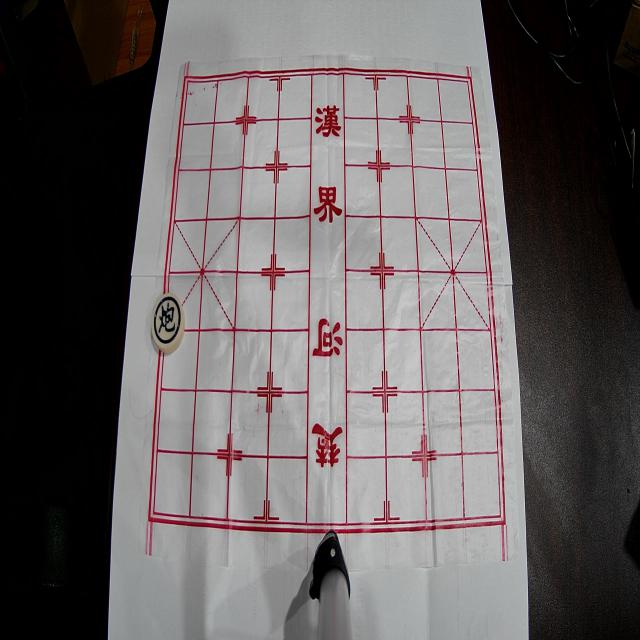black-cannon: (152, 293, 185, 354)
